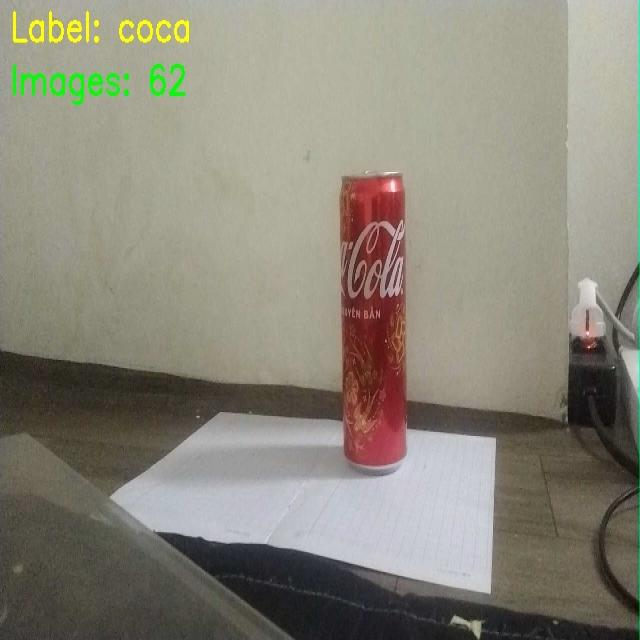Coca: (284, 120, 481, 524)
